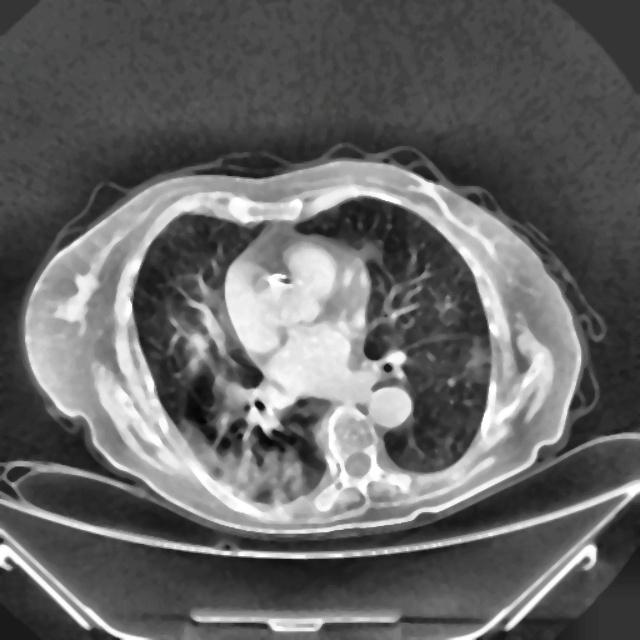covid: (20, 147, 600, 540)
